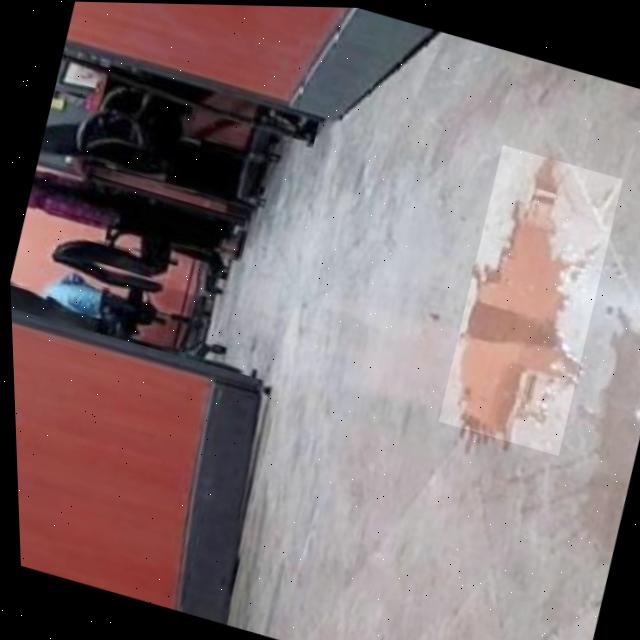spillage: (459, 156, 576, 437)
